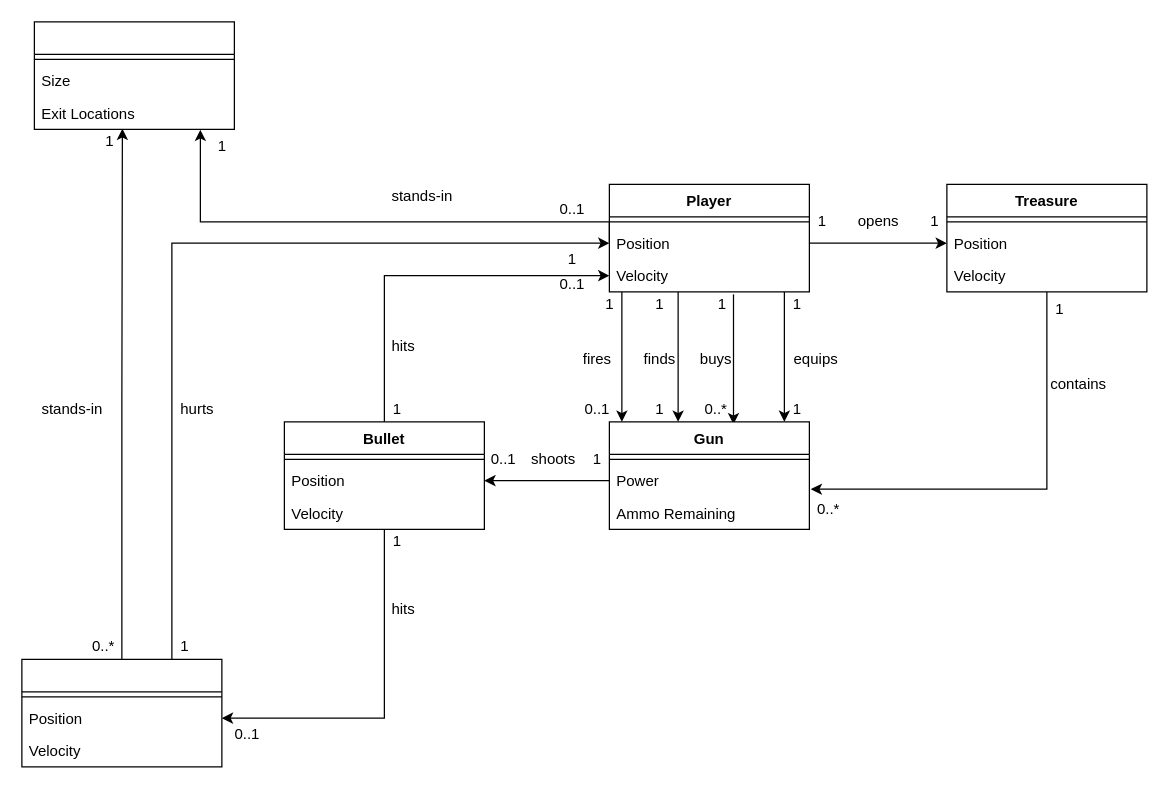
This 1169x793 diagram has some shape labels left out. The shapes that lost their labels are listed below. From the top down, each one's box as (x1, y1, x2, y2) in pixels, then its label:
(33, 21, 234, 129): Room
(21, 658, 222, 767): Monster
